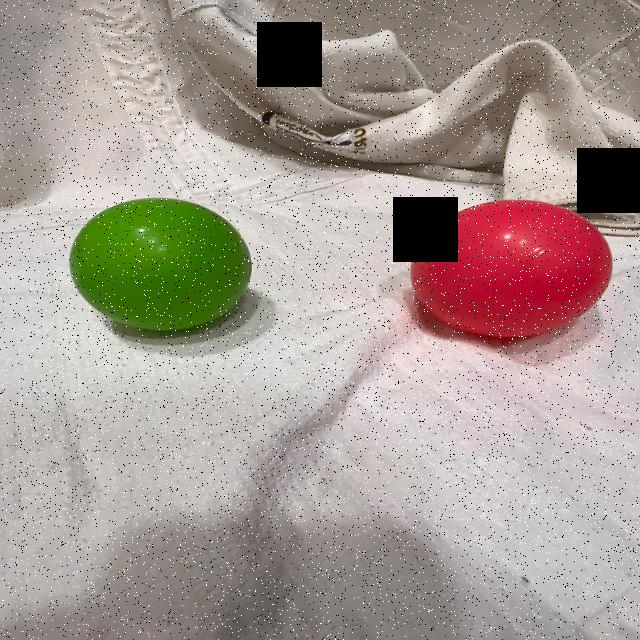ball: (405, 198, 614, 342), (66, 194, 254, 336)
